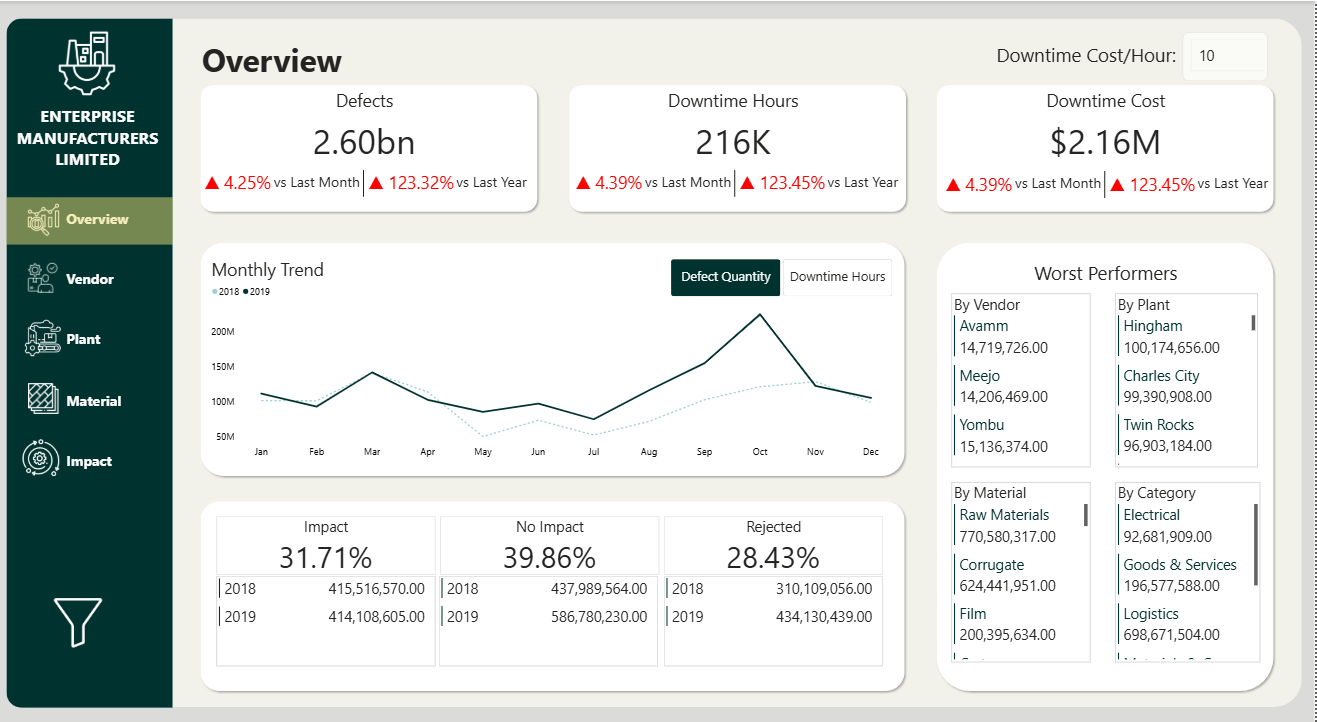

What the dashboard file says about the page in this screenshot:
{"tool":"powerbi","page":{"name":"Overview","canvas":[3000,1650],"ordinal":1},"visuals":[{"type":"shape","box":[0,0,3000,1650.3],"z":0},{"type":"card","fields":{"Values":["Defect Quantity.MoM Defect Quantity Trend icon"]},"box":[446.7,375,192.4,75],"z":0,"group":"g1"},{"type":"card","fields":{"Values":["DownTime.MoM Downtime Hours Trend icon"]},"box":[1294.5,375,192.4,75],"z":0,"group":"g2"},{"type":"card","fields":{"Values":["Downtime Cost.MoM Downtime COST Trend icon"]},"box":[2137.6,379.1,192.4,75],"z":0,"group":"g3"},{"type":"image","box":[54.2,456.1,94.1,85.5],"z":0,"group":"g4"},{"type":"textbox","box":[148.2,607.9,156.8,82.7],"z":0,"group":"g5"},{"type":"textbox","box":[148.2,745.5,156.8,82.7],"z":0,"group":"g6"},{"type":"textbox","box":[148.3,883,156.8,82.7],"z":0,"group":"g7"},{"type":"textbox","box":[148.3,1020.6,156.8,82.7],"z":0,"group":"g8"},{"type":"image","box":[116.9,1356.9,128.3,122.6],"z":0,"group":"g9"},{"type":"shape","box":[30.1,39.9,2939.9,1570.2],"z":1000},{"type":"textbox","box":[619.5,384.8,221.7,65.2],"z":1000,"group":"g1"},{"type":"textbox","box":[1467.3,384.8,221.7,65.2],"z":1000,"group":"g2"},{"type":"textbox","box":[2310.4,388.9,221.7,65.2],"z":1000,"group":"g3"},{"type":"textbox","box":[148.3,470.4,156.8,82.7],"z":1000,"group":"g4"},{"type":"image","box":[51.3,590.1,96.9,82.7],"z":1000,"group":"g5"},{"type":"image","box":[51.3,718.4,96.9,99.8],"z":1000,"group":"g6"},{"type":"image","box":[54.2,866.6,94.1,79.8],"z":1000,"group":"g7"},{"type":"image","box":[42.8,992.1,105.5,99.8],"z":1000,"group":"g8"},{"type":"shape","box":[16,39.9,379,1571.8],"z":2000},{"type":"shape","box":[782.6,384.8,94.6,62],"z":2000,"group":"g1"},{"type":"shape","box":[1630.4,384.8,94.6,62],"z":2000,"group":"g2"},{"type":"shape","box":[2473.5,388.9,94.6,62],"z":2000,"group":"g3"},{"type":"image","box":[76.8,63.8,247.3,159.6],"z":3000},{"type":"card","fields":{"Values":["Defect Quantity.YOY Defect Quantity Trend icon"]},"box":[834.7,375,208.7,75],"z":3000,"group":"g1"},{"type":"card","fields":{"Values":["DownTime.YOY Downtime Hours Trend icon"]},"box":[1682.5,375,208.7,75],"z":3000,"group":"g2"},{"type":"card","fields":{"Values":["Downtime Cost.YOY Downtime Cost Trend icon"]},"box":[2525.6,379.1,208.7,75],"z":3000,"group":"g3"},{"type":"textbox","box":[27.9,231.4,347.1,187.5],"z":4000},{"type":"textbox","box":[1036.9,384.8,221.7,65.2],"z":4000,"group":"g1"},{"type":"textbox","box":[1884.7,384.8,221.7,65.2],"z":4000,"group":"g2"},{"type":"textbox","box":[2727.8,388.9,221.7,65.2],"z":4000,"group":"g3"},{"type":"textbox","box":[450.8,79.8,343.1,119.7],"z":5000},{"type":"shape","box":[450.8,183.4,785.9,307.2],"z":6000},{"type":"shape","box":[450.8,1133,1623.7,450.8],"z":7000},{"type":"shape","box":[450.8,542.6,1623.7,550.5],"z":8000},{"type":"shape","box":[2130.3,542.6,785.9,1041.2],"z":9000},{"type":"shape","box":[1290.6,183.4,785.9,307.2],"z":10000},{"type":"shape","box":[2130.3,183.4,785.9,307.2],"z":11000},{"type":"card","title":"Defects","fields":{"Values":["Defect Quantity.Total Defect Qty"]},"box":[622.8,198.9,423.9,172.8],"z":12000},{"type":"group","id":"g1","title":"Group 1","box":[446.7,375,812,75],"z":13000},{"type":"card","title":"Downtime Hours","fields":{"Values":["DownTime.Total Downtime Hours"]},"box":[1461.3,198.9,423.9,172.8],"z":14000},{"type":"group","id":"g2","title":"Group 1","box":[1294.5,375,812,75],"z":15000},{"type":"slicer","fields":{"Values":["Impact Cost.Impact Cost "]},"box":[2699.7,71.3,193.9,111.2],"z":16000},{"type":"textbox","box":[2246.7,88,466.3,97.8],"z":17000},{"type":"card","title":"Downtime Cost","fields":{"Values":["Downtime Cost.Downtime Cost"]},"box":[2312,198.9,423.9,172.8],"z":18000},{"type":"group","id":"g3","title":"Group 1","box":[2137.6,379.1,809.6,77],"z":19000},{"type":"lineChart","title":"Monthly Trend","fields":{"Y":["Defect Quantity.Total Defect Qty"],"Category":["Date.Month Name Short"],"Series":["Date.Year"]},"box":[479.3,583.7,1565.2,469.6],"z":20000},{"type":"advancedSlicerVisual","fields":{"Values":["Overview .Overview "]},"box":[1528,584.4,516,94.1],"z":21000},{"type":"textbox","box":[2343.3,584.4,362,82.7],"z":22000},{"type":"multiRowCard","title":"By Vendor","fields":{"Values":["Supplier Quality.Vendor","Defect Quantity.Total Defect Qty"]},"box":[2172.3,667.1,316.4,396.3],"z":23000},{"type":"multiRowCard","title":"By Plant","fields":{"Values":["Defect Quantity.Total Defect Qty","Plant Location.Plant Location"]},"box":[2545.7,667.1,325,396.3],"z":24000},{"type":"multiRowCard","title":"By Material","fields":{"Values":["Defect Quantity.Total Defect Qty","Material Type.Material Type"]},"box":[2172.3,1097.5,316.4,410.5],"z":25000},{"type":"multiRowCard","title":"By Category","fields":{"Values":["Category.Category","Defect Quantity.Total Defect Qty"]},"box":[2545.7,1097.5,330.7,410.5],"z":26000},{"type":"card","title":"Impact","fields":{"Values":["_Defect Type.Impact Defect Type"]},"box":[497.4,1175.5,498.9,134],"z":27000},{"type":"card","title":"No Impact","fields":{"Values":["_Defect Type.No Impact Defect Type"]},"box":[1007.7,1175.5,498.9,134],"z":28000},{"type":"card","title":"Rejected","fields":{"Values":["_Defect Type.Rejected Defect Type"]},"box":[1518,1175.5,498.9,134],"z":29000},{"type":"multiRowCard","fields":{"Values":["Date.Year","Defect Quantity.Total Defect Qty"]},"box":[497.4,1312.3,498.9,205.3],"z":30000},{"type":"multiRowCard","fields":{"Values":["Date.Year","Defect Quantity.Total Defect Qty"]},"box":[1004.8,1312.3,498.9,205.3],"z":31000},{"type":"multiRowCard","fields":{"Values":["Date.Year","Defect Quantity.Total Defect Qty"]},"box":[1518,1312.3,498.9,205.3],"z":32000},{"type":"group","id":"g4","title":"Group 2","box":[54.2,456.1,250.9,96.9],"z":33000},{"type":"group","id":"g5","title":"Group 3","box":[51.3,590.1,253.7,100.5],"z":34000},{"type":"group","id":"g6","title":"Group 4","box":[51.3,718.4,253.7,109.8],"z":35000},{"type":"group","id":"g7","title":"Group 5","box":[54.2,866.6,250.9,99.1],"z":36000},{"type":"group","id":"g8","title":"Group 6","box":[42.8,992.1,262.3,111.2],"z":37000},{"type":"shape","box":[17.1,447.6,379.1,108.3],"z":38000},{"type":"shape","box":[16.9,579.5,379.6,108.5],"z":39000},{"type":"shape","box":[16.9,718.5,379.6,108.5],"z":40000},{"type":"shape","box":[16.9,850.7,379.6,108.5],"z":41000},{"type":"shape","box":[16.9,999.8,379.6,108.5],"z":42000},{"type":"group","id":"g9","title":"Overview Filter","box":[116.9,442.2,716.8,1037.3],"z":43000}]}

Visuals, with their boxes in screenshot pixels (x1, y1, x2, y2), scaled from the page's 3000x1650 canvas onto the 1317x722 screenshot:
shape: 0, 0, 1316, 721
card - Defect Quantity.MoM Defect Quantity Trend icon: 196, 164, 281, 197
card - DownTime.MoM Downtime Hours Trend icon: 568, 164, 653, 197
card - Downtime Cost.MoM Downtime COST Trend icon: 938, 166, 1023, 199
image: 24, 200, 65, 237
textbox: 65, 266, 134, 302
textbox: 65, 326, 134, 362
textbox: 65, 386, 134, 423
textbox: 65, 447, 134, 483
image: 51, 594, 108, 647
shape: 13, 17, 1304, 705
textbox: 272, 168, 369, 197
textbox: 644, 168, 741, 197
textbox: 1014, 170, 1112, 199
textbox: 65, 206, 134, 242
image: 23, 258, 65, 294
image: 23, 314, 65, 358
image: 24, 379, 65, 414
image: 19, 434, 65, 478
shape: 7, 17, 173, 705
shape: 344, 168, 385, 196
shape: 716, 168, 757, 196
shape: 1086, 170, 1127, 197
image: 34, 28, 142, 98
card - Defect Quantity.YOY Defect Quantity Trend icon: 366, 164, 458, 197
card - DownTime.YOY Downtime Hours Trend icon: 739, 164, 830, 197
card - Downtime Cost.YOY Downtime Cost Trend icon: 1109, 166, 1200, 199
textbox: 12, 101, 165, 183
textbox: 455, 168, 553, 197
textbox: 827, 168, 925, 197
textbox: 1198, 170, 1295, 199
textbox: 198, 35, 349, 87
shape: 198, 80, 543, 215
shape: 198, 496, 911, 693
shape: 198, 237, 911, 478
shape: 935, 237, 1280, 693
shape: 567, 80, 912, 215
shape: 935, 80, 1280, 215
"Defects" card: 273, 87, 460, 163
"Group 1" group: 196, 164, 553, 197
"Downtime Hours" card: 642, 87, 828, 163
"Group 1" group: 568, 164, 925, 197
slicer - Impact Cost.Impact Cost : 1185, 31, 1270, 80
textbox: 986, 39, 1191, 81
"Downtime Cost" card: 1015, 87, 1201, 163
"Group 1" group: 938, 166, 1294, 200
"Monthly Trend" lineChart: 210, 255, 898, 461
advancedSlicerVisual - Overview .Overview : 671, 256, 897, 297
textbox: 1029, 256, 1188, 292
"By Vendor" multiRowCard: 954, 292, 1093, 465
"By Plant" multiRowCard: 1118, 292, 1260, 465
"By Material" multiRowCard: 954, 480, 1093, 660
"By Category" multiRowCard: 1118, 480, 1263, 660
"Impact" card: 218, 514, 437, 573
"No Impact" card: 442, 514, 661, 573
"Rejected" card: 666, 514, 885, 573
multiRowCard - Date.Year x Defect Quantity.Total Defect Qty: 218, 574, 437, 664
multiRowCard - Date.Year x Defect Quantity.Total Defect Qty: 441, 574, 660, 664
multiRowCard - Date.Year x Defect Quantity.Total Defect Qty: 666, 574, 885, 664
"Group 2" group: 24, 200, 134, 242
"Group 3" group: 23, 258, 134, 302
"Group 4" group: 23, 314, 134, 362
"Group 5" group: 24, 379, 134, 423
"Group 6" group: 19, 434, 134, 483
shape: 8, 196, 174, 243
shape: 7, 254, 174, 301
shape: 7, 314, 174, 362
shape: 7, 372, 174, 420
shape: 7, 437, 174, 485
"Overview Filter" group: 51, 193, 366, 647
